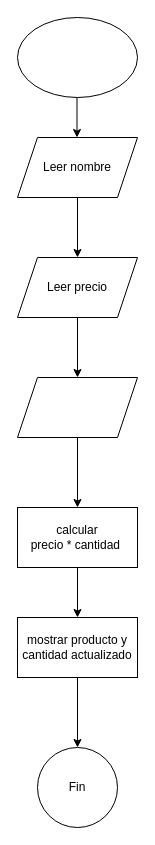
Some shapes in this 155 by 845 pixel diagram are drawn without their labels. The centre of each missing label's shape, as x and y in pixels:
"Inicio" goes at point (77, 57).
"Leer cantidad" goes at point (77, 407).
